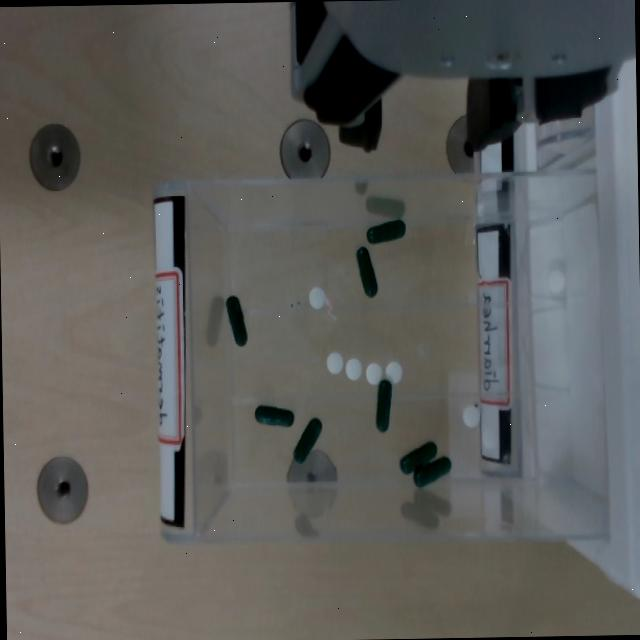ganakan_tab: (324, 349, 343, 375), (306, 284, 324, 309), (461, 402, 479, 427), (384, 359, 401, 383), (344, 356, 361, 379), (364, 362, 381, 384)
monodoxy_cap: (291, 417, 322, 464), (410, 454, 451, 488), (398, 440, 437, 475), (292, 417, 320, 462), (224, 294, 247, 347), (398, 441, 435, 473), (354, 245, 376, 298), (364, 217, 405, 245), (412, 456, 449, 487), (354, 246, 376, 297), (223, 295, 245, 345), (252, 402, 293, 428), (374, 378, 393, 434), (365, 218, 403, 243), (374, 379, 390, 432), (254, 404, 291, 426)
